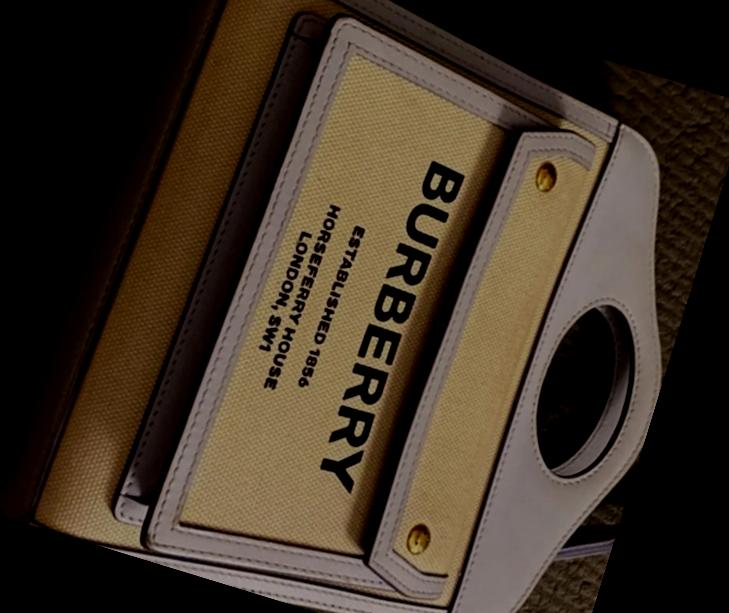BURBERRY: (314, 154, 466, 498)
